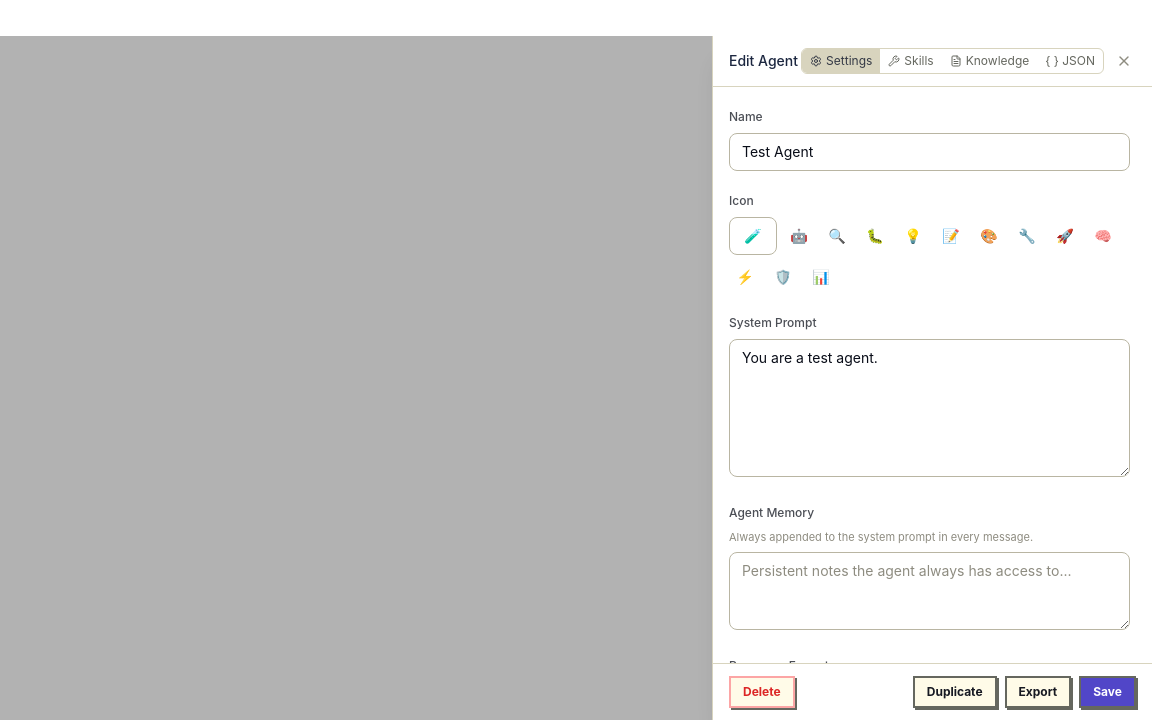
Test: AgentPanel — Skills tab › ap-skills-1: Skills tab renders one card per built-in tool
Click the button "Skills": click(911, 61) 880,49 -> 942,73
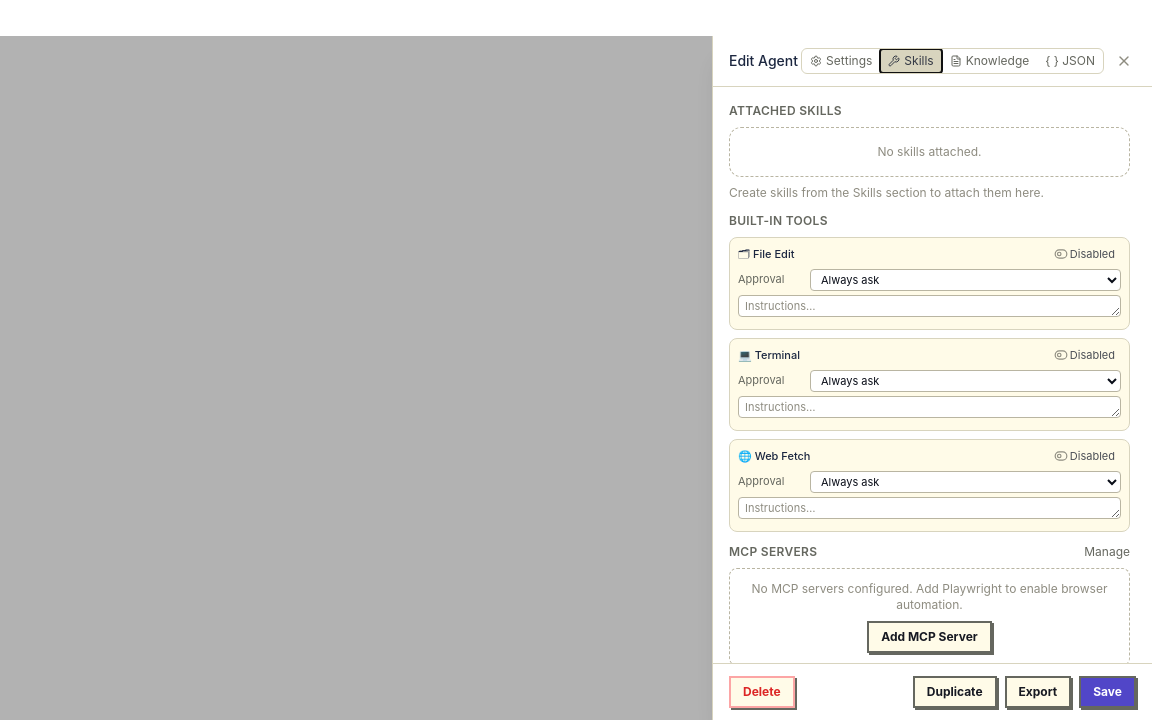
Check: the text "🗂 File Edit" is shown, box 738,246 -> 794,262
Check: the text "💻 Terminal" is shown, box 738,347 -> 800,364
Check: the text "🌐 Web Fetch" is shown, box 738,448 -> 810,464
